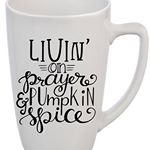cups: (2, 1, 150, 149)
